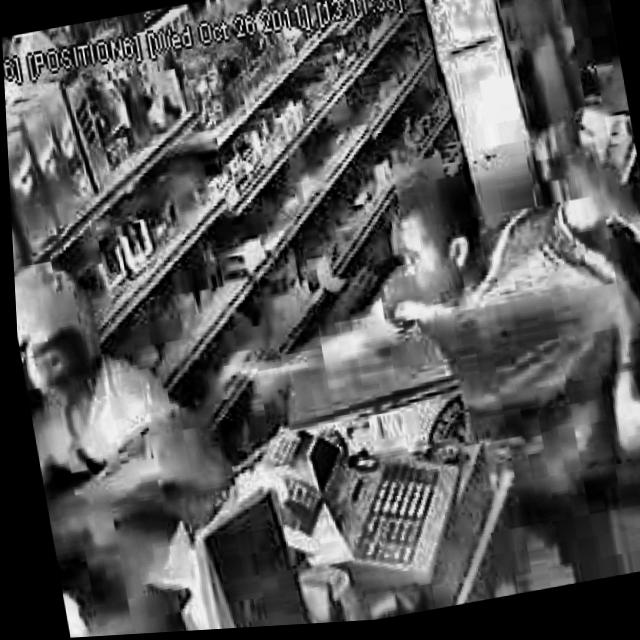robbery: (10, 226, 264, 640)
